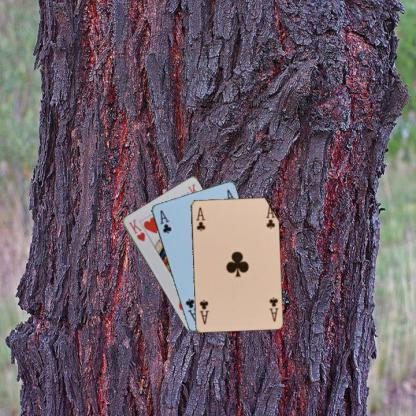Ac: (157, 208, 173, 235), (266, 294, 280, 323), (192, 204, 206, 232)
Kh: (126, 216, 146, 242)
